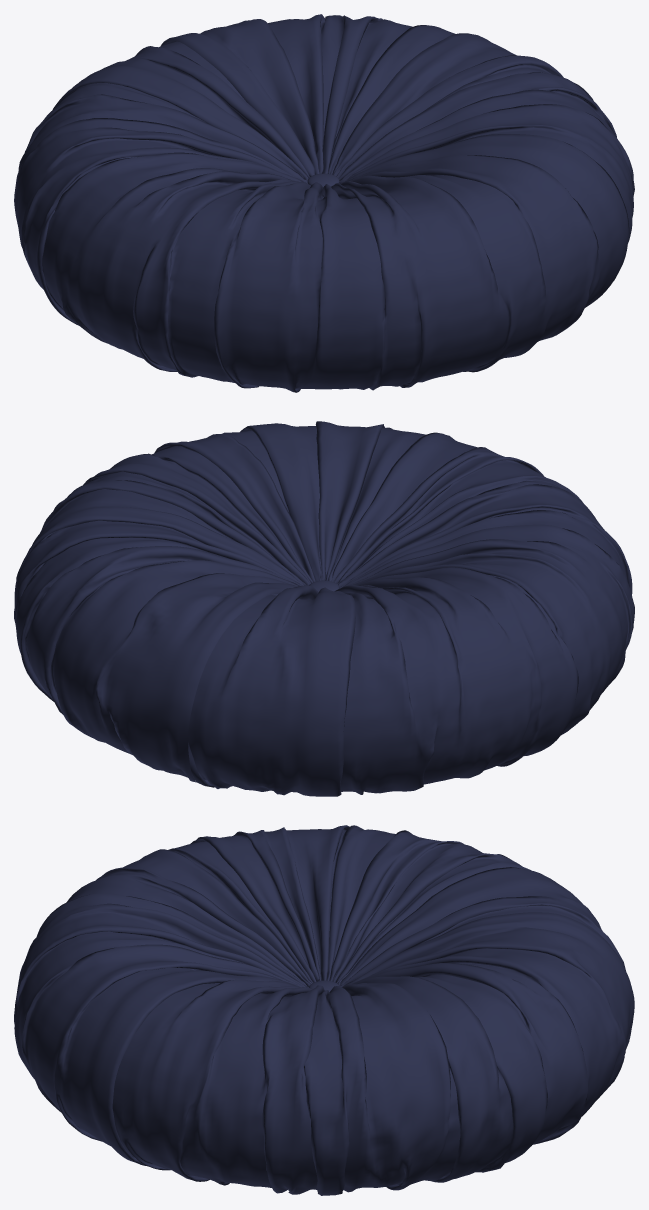
The model's file is khr_SpecularSilkPouf.glb.
The picture shows the model from 3 angles, top to bottom: view 1: azimuth 30°, elevation 25°; view 2: azimuth 150°, elevation 25°; view 3: azimuth 270°, elevation 25°; orthographic projection.
Visible parts, largest first — view 1: SpecularSilkPouf; view 2: SpecularSilkPouf; view 3: SpecularSilkPouf.
Part boxes in pixels (x1,y1,x2,y2): SpecularSilkPouf: (14,14,634,392); SpecularSilkPouf: (14,421,634,796); SpecularSilkPouf: (14,825,634,1195).
Bounding box in the file's own units: 0.6099 × 0.1978 × 0.61.
